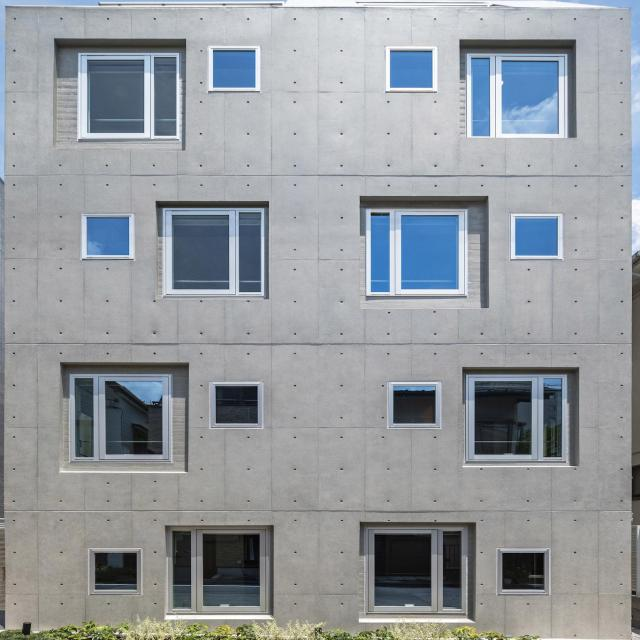window: (161, 210, 264, 296), (73, 380, 168, 464), (89, 59, 182, 141), (171, 531, 267, 610), (473, 59, 565, 140), (371, 215, 461, 297), (375, 532, 466, 613), (478, 380, 565, 460), (501, 553, 551, 593), (390, 50, 437, 91), (97, 554, 143, 594), (217, 50, 261, 90), (87, 219, 132, 258), (395, 388, 439, 427), (516, 220, 560, 259), (217, 388, 260, 426)
